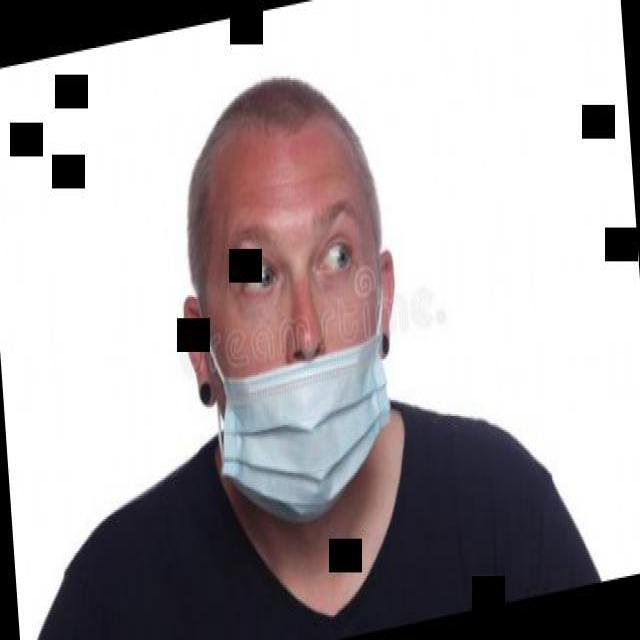hairnet: (211, 273, 392, 519)
